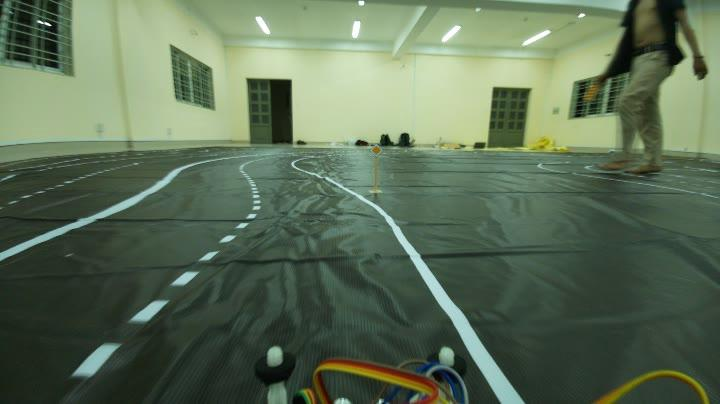priority: (370, 142, 386, 156)
